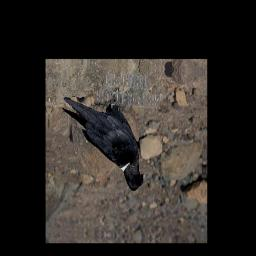Crow: (58, 79, 150, 193)
